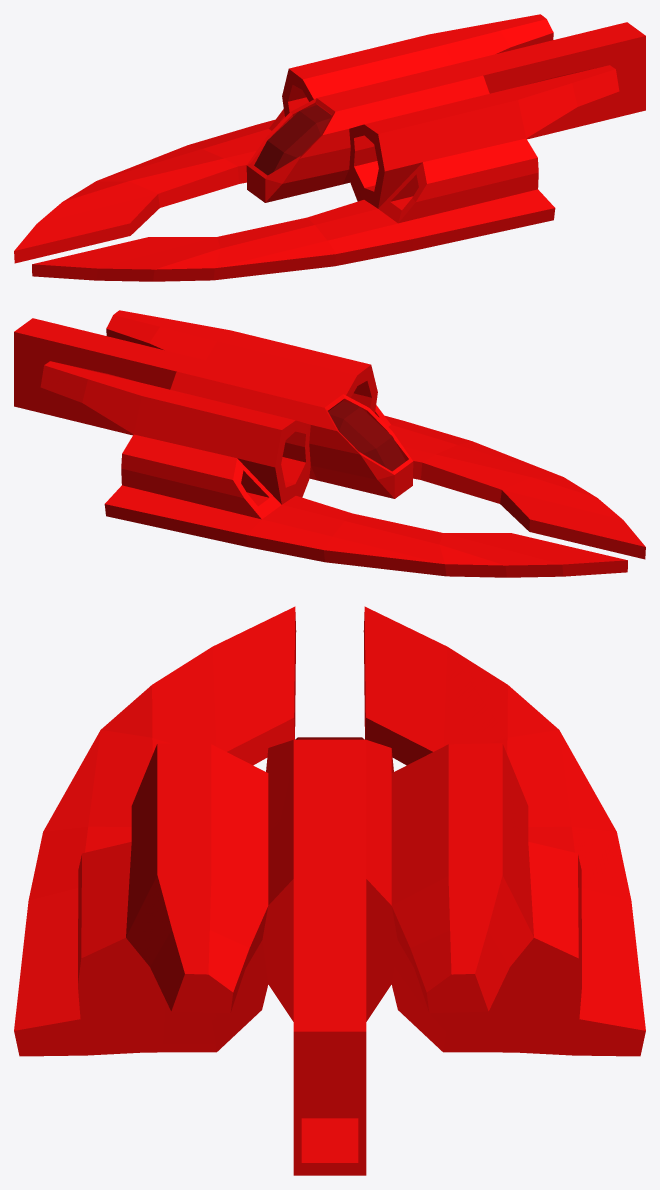
Rendered from tank_red_3.glb.
3 renders of one model, top to bottom at view 1: azimuth 30°, elevation 25°; view 2: azimuth 150°, elevation 25°; view 3: azimuth 270°, elevation 25°, orthographic. The views are drawn at different scales.
Visible parts, largest first — view 1: Spaceship_Cube_primitive1, Spaceship_Cube_primitive0; view 2: Spaceship_Cube_primitive1, Spaceship_Cube_primitive0; view 3: Spaceship_Cube_primitive1.
Boxes of the visible parts, left/top/right/bottom form: Spaceship_Cube_primitive1: left=14, top=14, right=645, bottom=281; Spaceship_Cube_primitive0: left=254, top=105, right=331, bottom=175; Spaceship_Cube_primitive1: left=14, top=310, right=645, bottom=577; Spaceship_Cube_primitive0: left=328, top=401, right=405, bottom=471; Spaceship_Cube_primitive1: left=14, top=606, right=645, bottom=1175.
Size of the model in its own units: 1 by 0.1465 by 0.4624.
